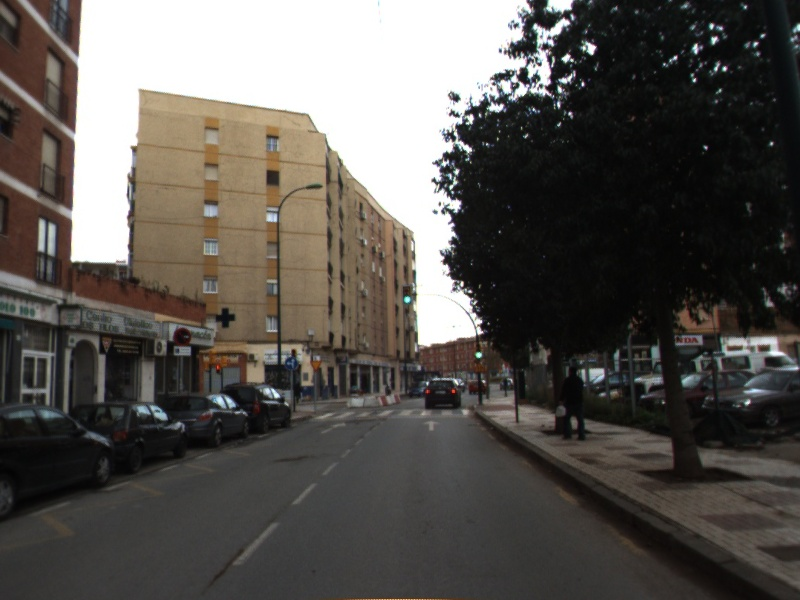STRAIGHT: (319, 420, 348, 436), (421, 418, 443, 433)
